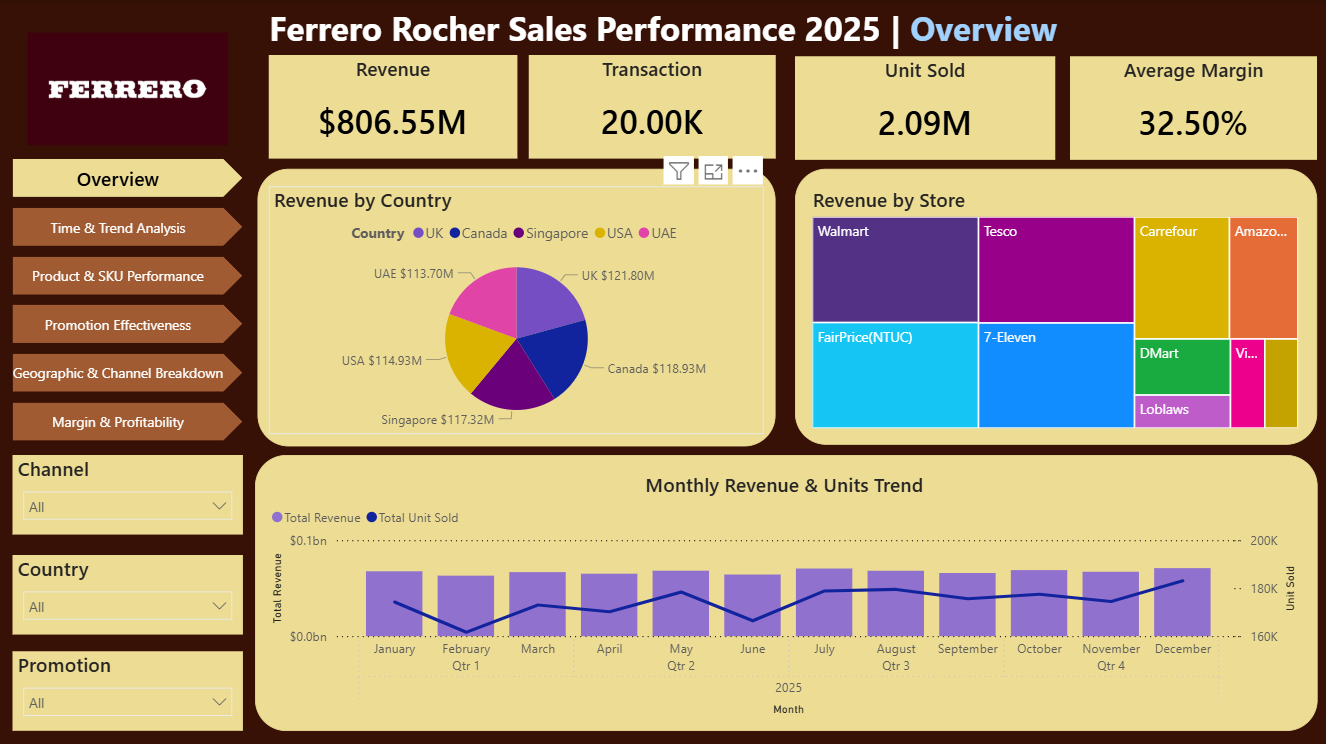

What the dashboard file says about the page in this screenshot:
{"tool":"powerbi","page":{"name":"Overview","canvas":[1280,720],"ordinal":0},"visuals":[{"type":"cardVisual","title":"Revenue","fields":{"Data":["Sales.Total Revenue"]},"box":[258.8,53,239.9,99.7],"z":0},{"type":"cardVisual","title":"Transaction","fields":{"Data":["Sales.Total Transaction"]},"box":[510.1,53,238.6,99.7],"z":1000},{"type":"cardVisual","title":"Unit Sold","fields":{"Data":["Sales.Total Unit Sold"]},"box":[767.6,54.3,251.3,99.7],"z":2000},{"type":"shape","box":[248.7,162.9,500,267.7],"z":3000},{"type":"cardVisual","title":"Average Margin","fields":{"Data":["Sales.Average Margin"]},"box":[1032.8,54.3,238.6,99.7],"z":4000},{"type":"shape","box":[767.6,162.9,503.8,266.4],"z":5000},{"type":"pieChart","title":"Revenue by Country","fields":{"Category":["Sales.Country"],"Y":["Sales.Total Revenue"]},"box":[258.8,179.3,478.5,239.9],"z":6000},{"type":"shape","box":[246.2,439.4,1025.2,266.4],"z":7000},{"type":"treemap","title":"Revenue by Store","fields":{"Group":["Sales.Store"],"Values":["Sales.Total Revenue"]},"box":[779,179.3,478.5,238.6],"z":8000},{"type":"lineStackedColumnComboChart","title":"Monthly Revenue & Units Trend","fields":{"Y":["Sales.Total Revenue"],"Y2":["Sales.Total Unit Sold"],"Category":["Dimdate.Date.Variation.Date Hierarchy.Year","Dimdate.Date.Variation.Date Hierarchy.Quarter","Dimdate.Date.Variation.Date Hierarchy.Month"]},"box":[257.6,454.5,1000,241.2],"z":9000},{"type":"slicer","title":"Country","fields":{"Values":["Sales.Country"]},"box":[12.6,535.3,222.2,77],"z":10000},{"type":"slicer","title":"Channel","fields":{"Values":["Sales.Channel"]},"box":[12.6,439.4,222.2,77],"z":11000},{"type":"slicer","title":"Promotion","fields":{"Values":["Sales.Promotion"]},"box":[12.6,628.8,222.2,77],"z":12000},{"type":"image","box":[12.6,31.6,222.2,108.6],"z":13000},{"type":"pageNavigator","box":[12.6,152.8,222.2,276.5],"z":14000},{"type":"textbox","box":[0,0,1280.3,53],"z":15000}]}

Visuals, with their boxes in screenshot pixels (x1, y1, x2, y2), scaled from the page's 1280x720 canvas onto the 1326x744 screenshot:
"Revenue" cardVisual: 268,55,517,158
"Transaction" cardVisual: 528,55,776,158
"Unit Sold" cardVisual: 795,56,1056,159
shape: 258,168,776,445
"Average Margin" cardVisual: 1070,56,1317,159
shape: 795,168,1317,444
"Revenue by Country" pieChart: 268,185,764,433
shape: 255,454,1317,729
"Revenue by Store" treemap: 807,185,1303,432
"Monthly Revenue & Units Trend" lineStackedColumnComboChart: 267,470,1303,719
"Country" slicer: 13,553,243,633
"Channel" slicer: 13,454,243,534
"Promotion" slicer: 13,650,243,729
image: 13,33,243,145
pageNavigator: 13,158,243,444
textbox: 0,0,1325,55
